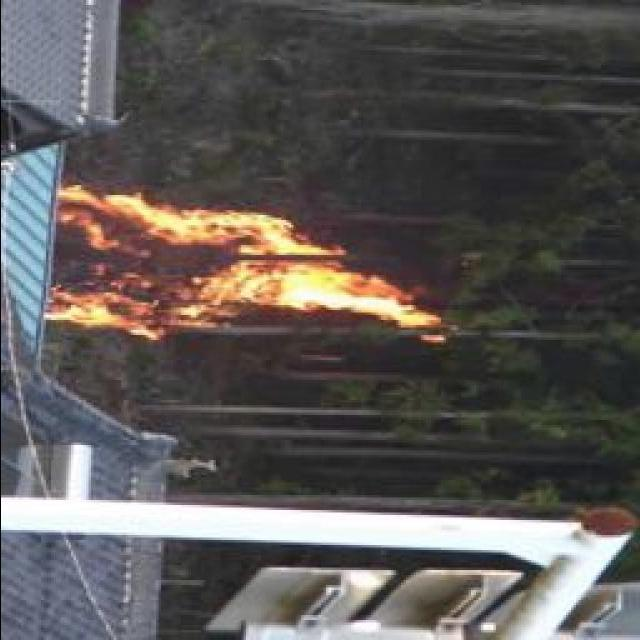Fire: (46, 191, 446, 343)
